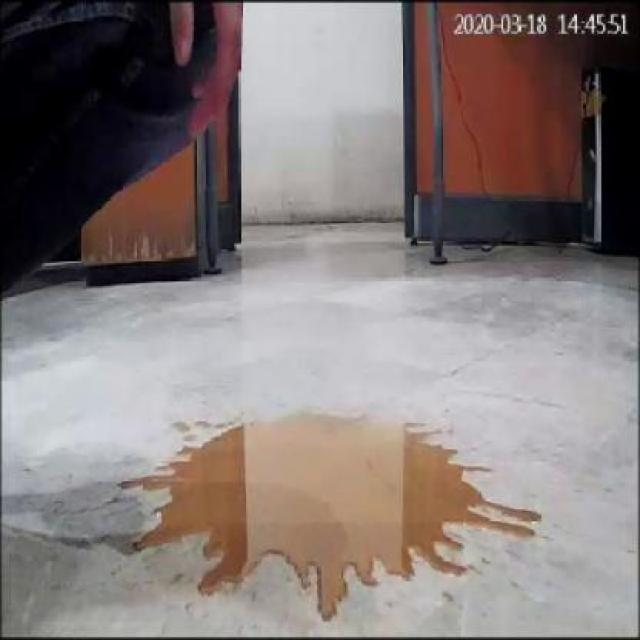spillage: (132, 416, 541, 621)
